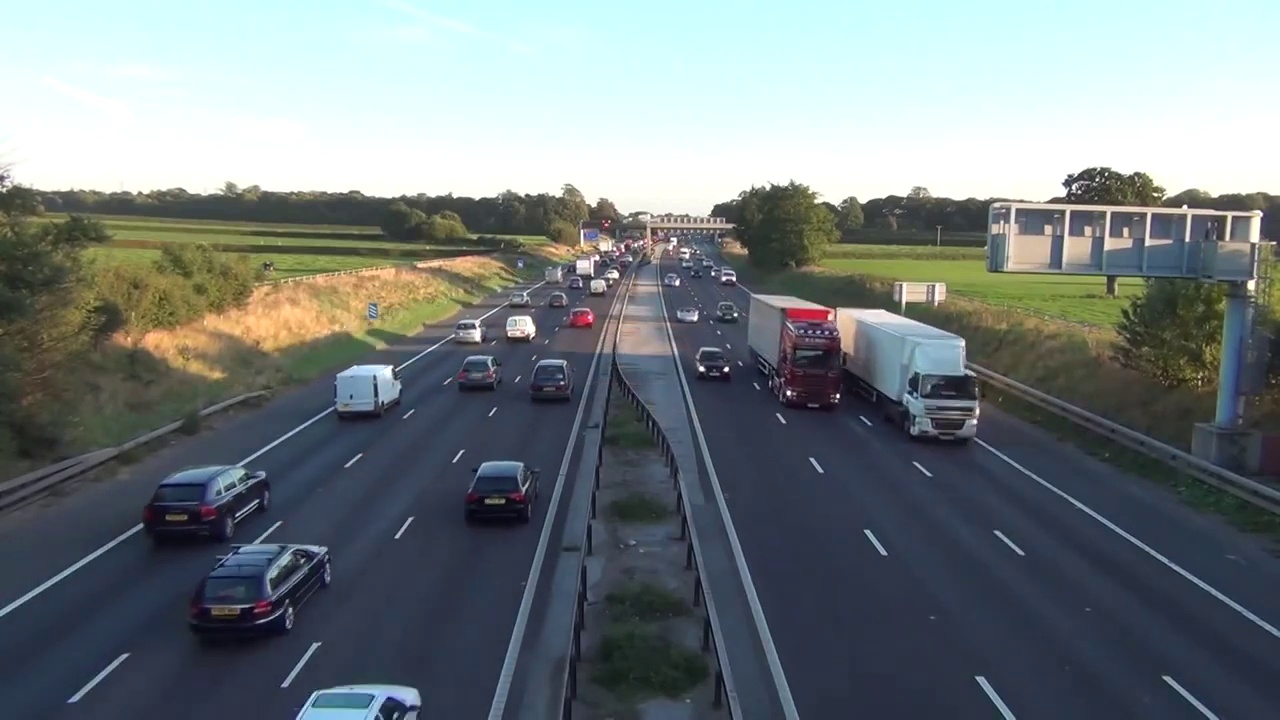bus: (188, 545, 330, 637), (142, 467, 270, 538), (464, 460, 541, 523), (529, 359, 576, 401), (457, 354, 502, 390), (694, 347, 731, 382), (454, 319, 486, 343), (568, 308, 594, 327), (716, 302, 738, 323), (676, 306, 698, 323), (509, 292, 531, 306), (548, 293, 566, 308), (568, 277, 584, 290), (663, 274, 679, 286)
car: (835, 307, 979, 444), (749, 294, 847, 410)
lorry: (334, 365, 402, 418), (506, 315, 537, 341), (589, 279, 606, 295), (719, 269, 736, 285)
